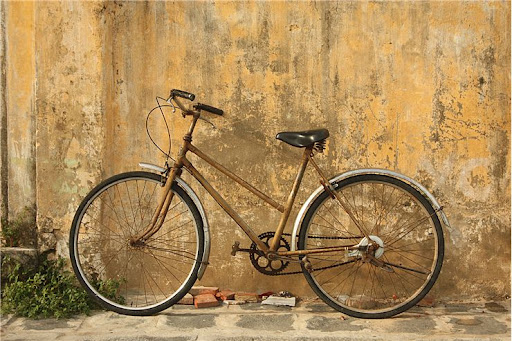bicycle: (65, 86, 449, 322)
